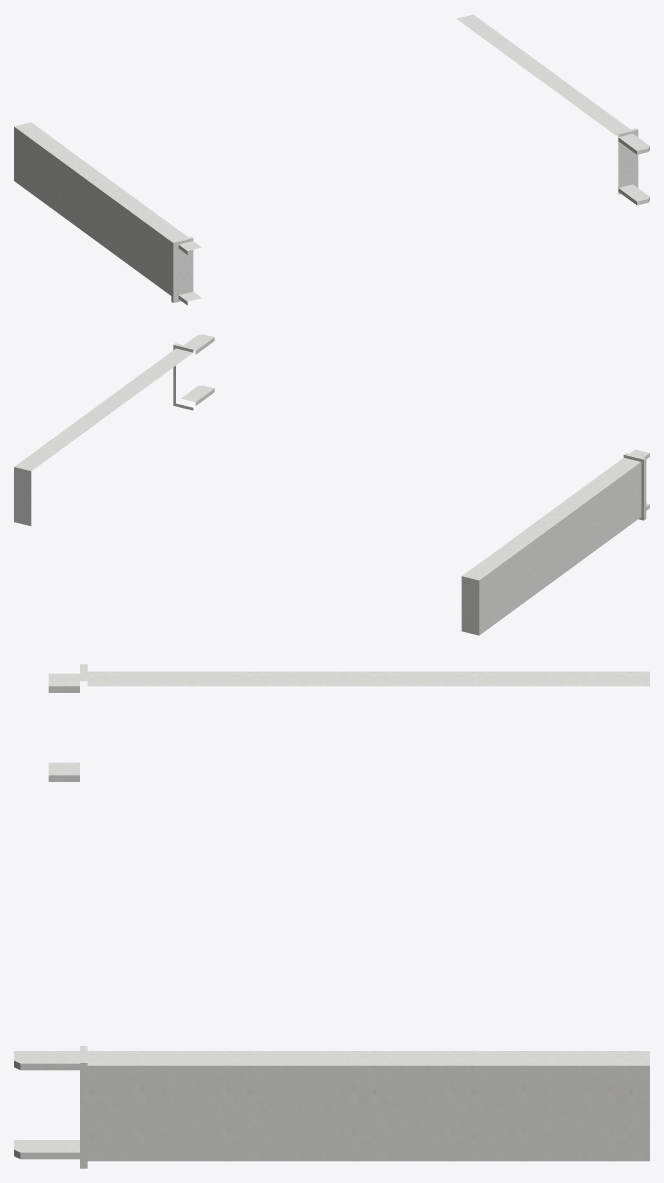
The model's file is jtpj027-geode.glb.
The picture shows the model from 3 angles, top to bottom: view 1: azimuth 30°, elevation 25°; view 2: azimuth 150°, elevation 25°; view 3: azimuth 270°, elevation 25°; orthographic projection. The views are drawn at different scales.
Parts seen in each view (by area): view 1: Node; view 2: Node; view 3: Node.
Part boxes in pixels (left/top/right/bottom): Node: left=14, top=14, right=649, bottom=305; Node: left=14, top=334, right=649, bottom=635; Node: left=14, top=664, right=649, bottom=1168.
Bounding box in the file's own units: 3.71 × 0.4585 × 2.5.
1 material, 1 textured.
